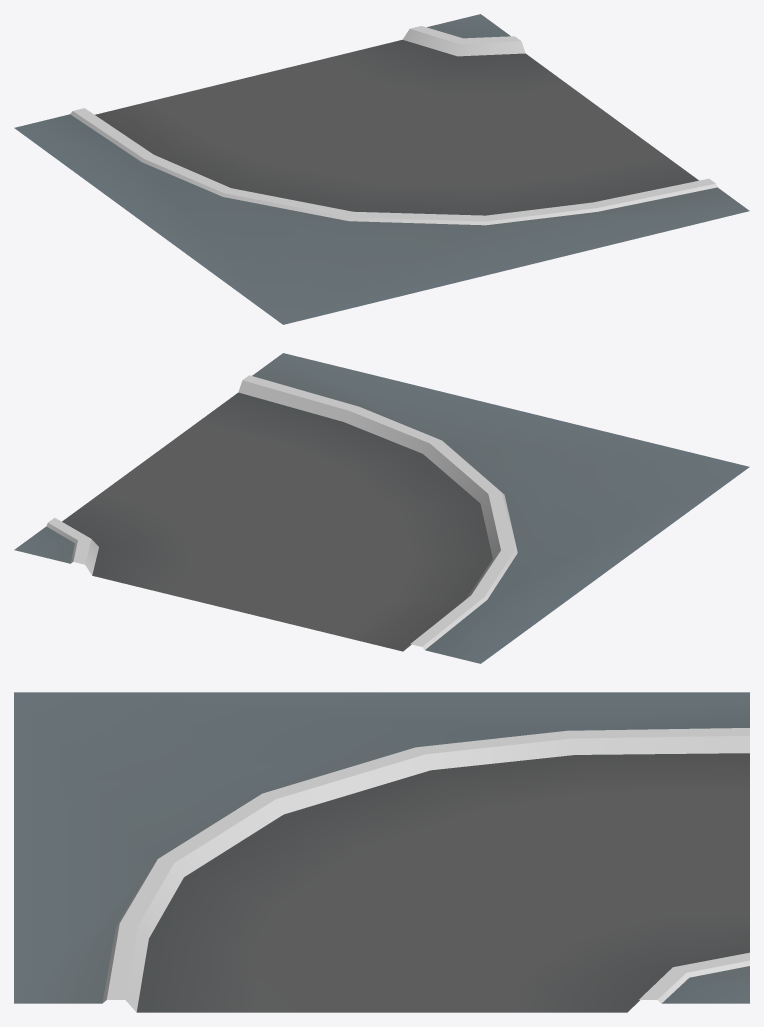
Rendered from SRoad03.fbx.
3 renders of one model, top to bottom at view 1: azimuth 30°, elevation 25°; view 2: azimuth 150°, elevation 25°; view 3: azimuth 270°, elevation 25°, orthographic. The views are drawn at different scales.
Visible parts, largest first — view 1: SRoad03; view 2: SRoad03; view 3: SRoad03.
Boxes of the visible parts, bbox=[...] form: SRoad03: bbox=[14, 14, 749, 324]; SRoad03: bbox=[14, 353, 749, 663]; SRoad03: bbox=[14, 692, 749, 1012].
Size of the model in its own units: 2 by 0.038 by 2.
